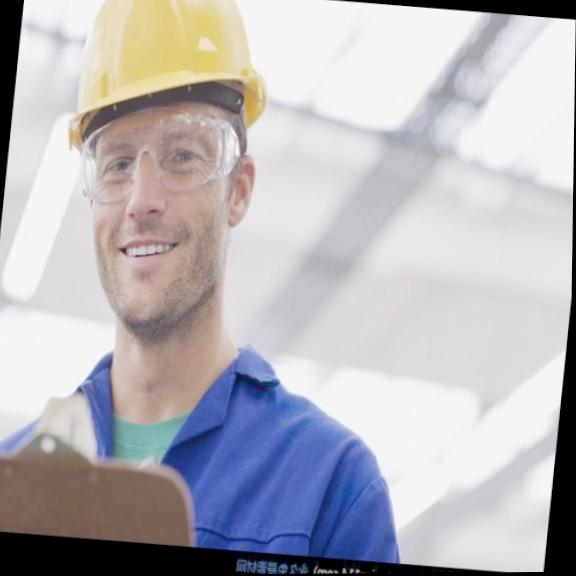no_safety_vest: (0, 299, 413, 576)
